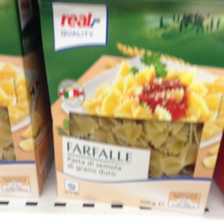pasta: (40, 1, 224, 213)
